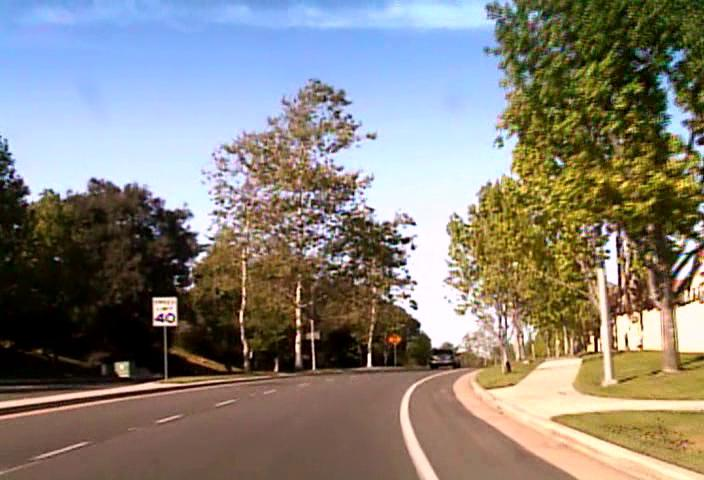speedLimit40: (152, 296, 177, 326)
